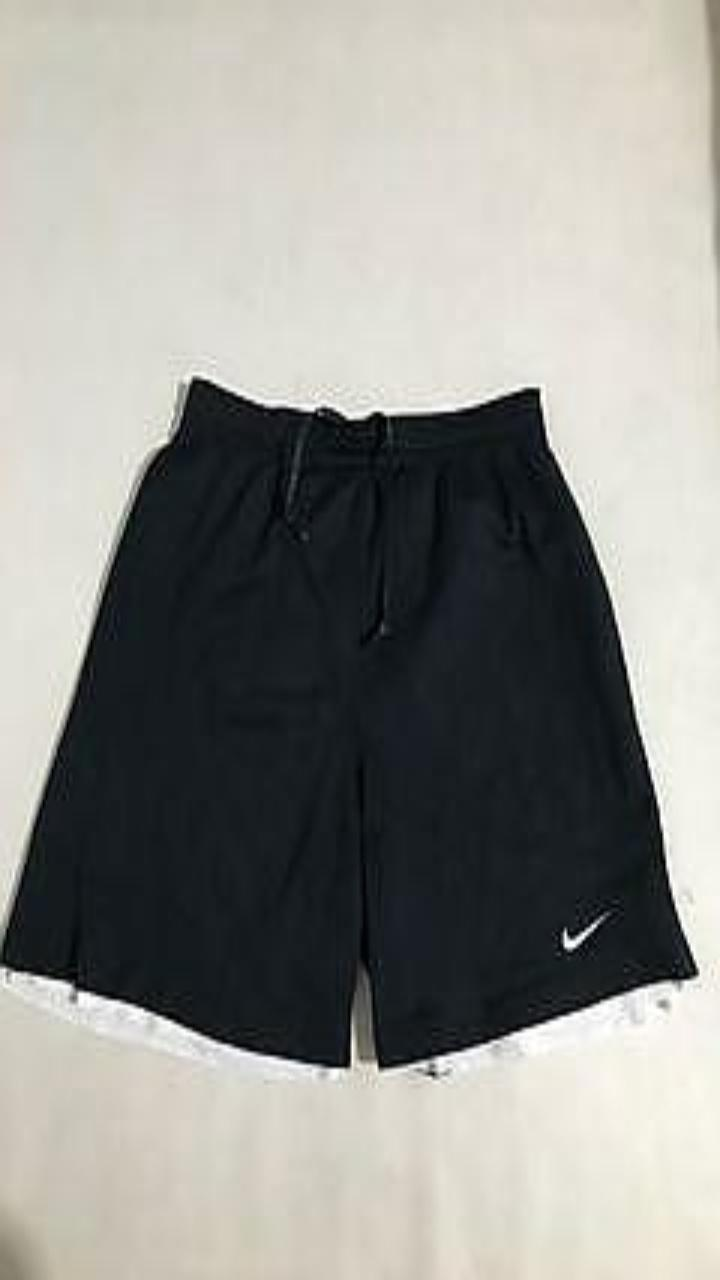Shorts: (0, 377, 696, 1076)
